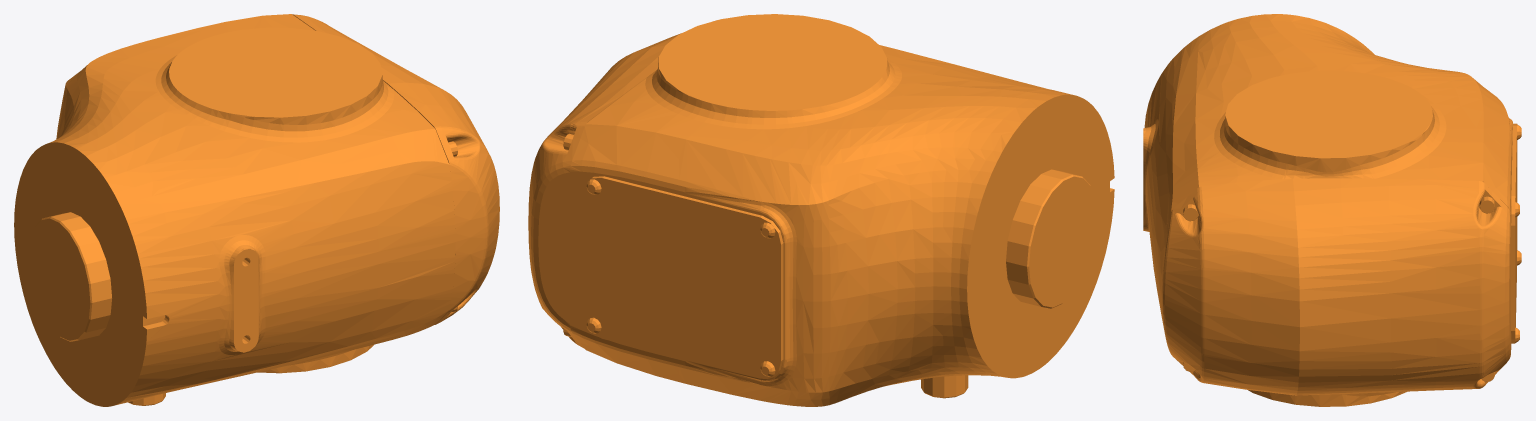
Rendered from linkhou_LR4_R560_link4_visual_vis_1.dae.
3 views of the same model, side by side, from view 1: azimuth 30°, elevation 25°; view 2: azimuth 150°, elevation 25°; view 3: azimuth 270°, elevation 25° (orthographic). The views are drawn at different scales.
Parts seen in each view (by area): view 1: Node_00000298084325F0; view 2: Node_00000298084325F0; view 3: Node_00000298084325F0.
Boxes of the visible parts, <box> form: Node_00000298084325F0: <box>14,14,499,406</box>; Node_00000298084325F0: <box>528,14,1114,406</box>; Node_00000298084325F0: <box>1143,14,1521,406</box>.
Bounding box in the file's own units: 0.1743 × 0.108 × 0.1366.
